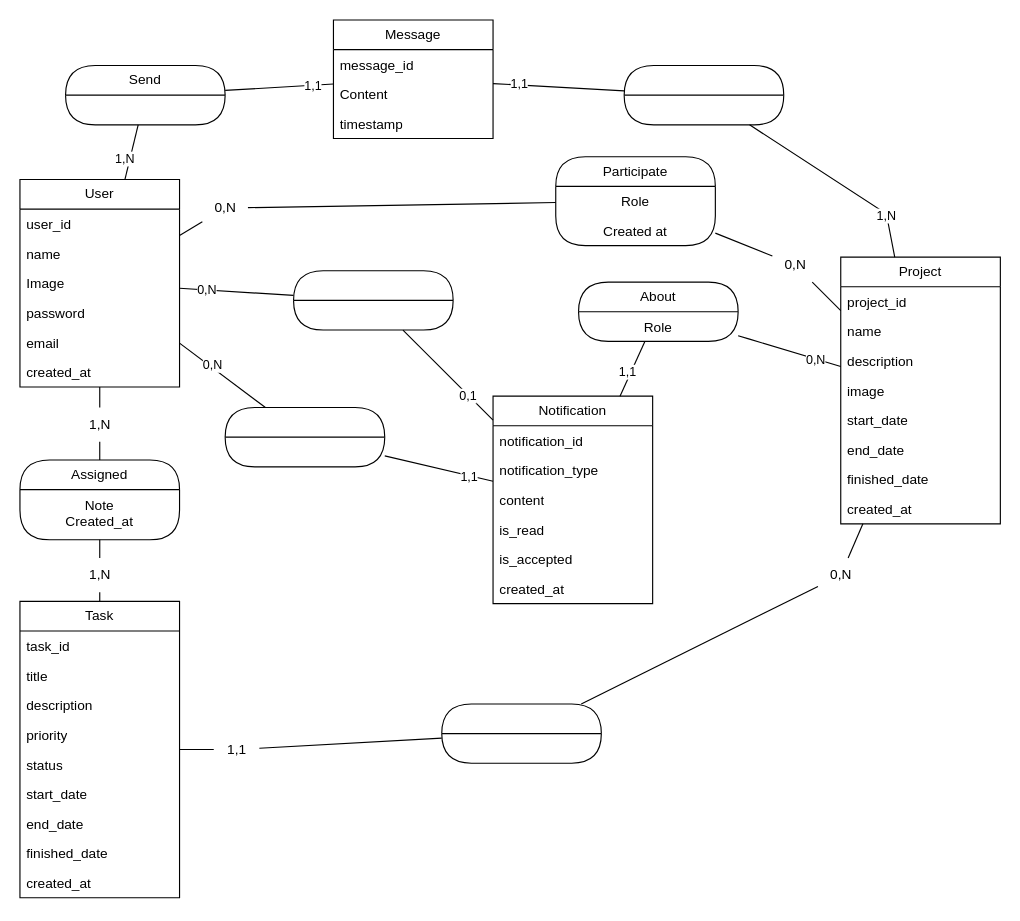
Image size: 1020x921. Some labels were removed from this diagram. The centre of each missing label's shape, as x and y in pixels:
"Associated" goes at point (703, 94).
"Belong" goes at point (521, 733).
"Received by" goes at point (304, 436).
"Sent by" goes at point (372, 300).
